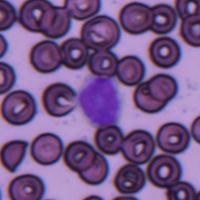L: (78, 74, 123, 126)
